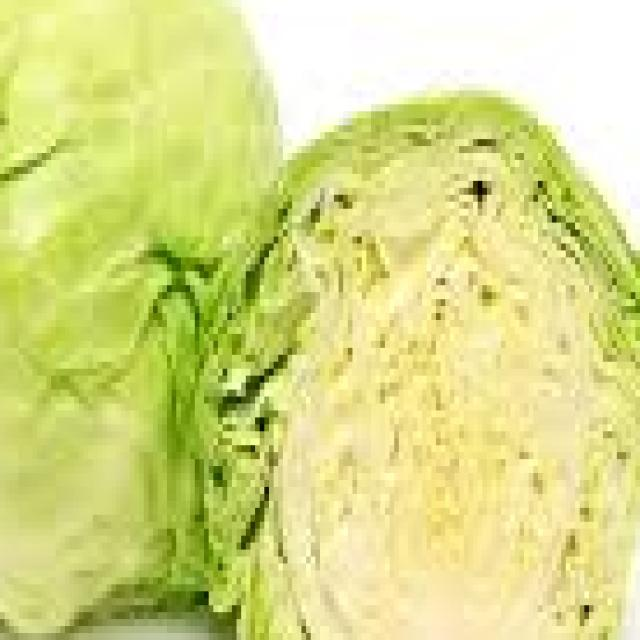cabbage: (264, 195, 589, 640), (0, 69, 162, 612)
